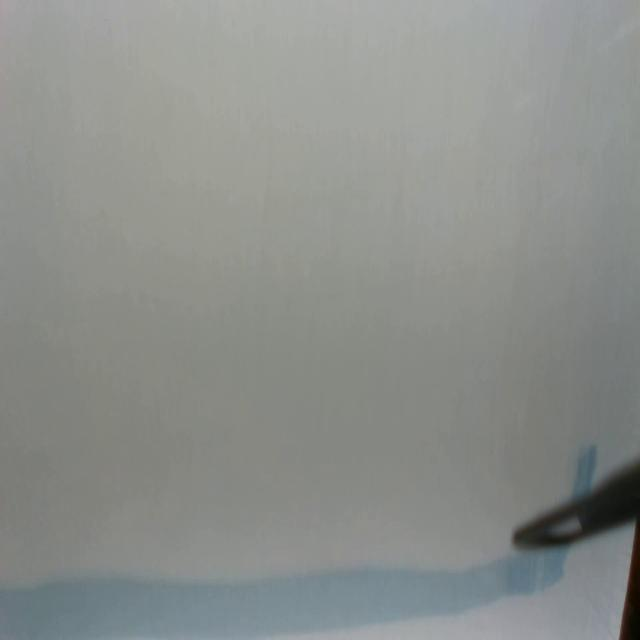color bleeding: (0, 547, 567, 640), (575, 441, 598, 491)
